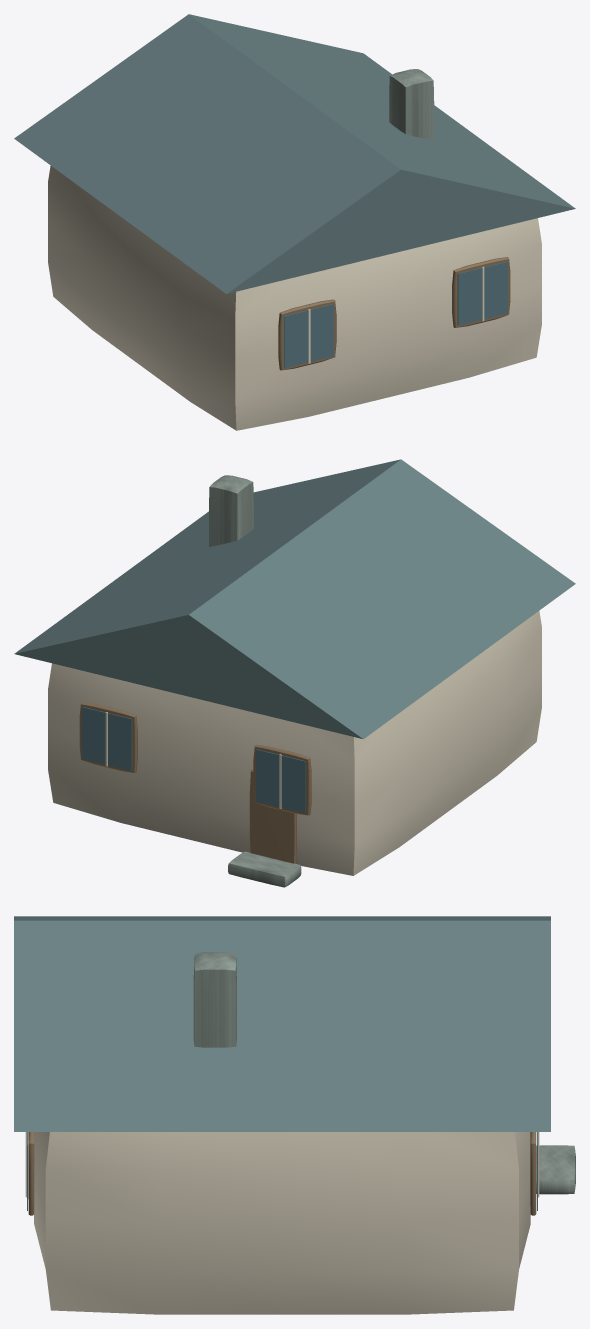
File: farmhouse_variant_02.glb
The picture shows the model from 3 angles, top to bottom: view 1: azimuth 30°, elevation 25°; view 2: azimuth 150°, elevation 25°; view 3: azimuth 270°, elevation 25°; orthographic projection. The views are drawn at different scales.
Parts seen in each view (by area): view 1: gable_roof, static_plaster, static_window_building, static_stone, static_wood; view 2: gable_roof, static_plaster, static_window_building, static_stone, static_wood; view 3: gable_roof, static_plaster, static_stone, static_wood.
Part boxes in pixels (bbox=[...]): gable_roof: bbox=[14, 14, 575, 293]; static_plaster: bbox=[48, 166, 541, 430]; static_window_building: bbox=[284, 261, 507, 368]; static_stone: bbox=[389, 69, 434, 140]; static_wood: bbox=[278, 257, 510, 370]; gable_roof: bbox=[14, 459, 575, 739]; static_plaster: bbox=[48, 611, 541, 875]; static_window_building: bbox=[82, 707, 305, 813]; static_stone: bbox=[209, 475, 301, 887]; static_wood: bbox=[79, 702, 311, 863]; gable_roof: bbox=[14, 916, 550, 1131]; static_plaster: bbox=[25, 1132, 539, 1314]; static_stone: bbox=[193, 952, 575, 1194]; static_wood: bbox=[28, 1132, 536, 1215].
Size of the model in its own units: 7.6 by 5.3 by 8.38.
5 materials, 1 textured.
